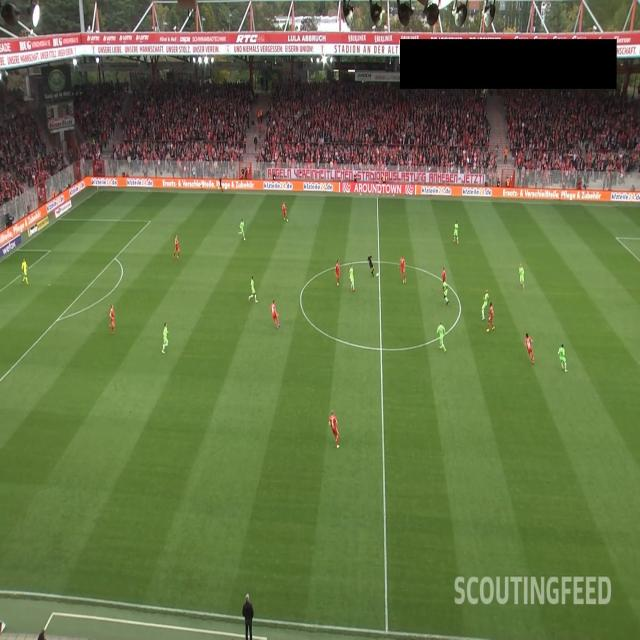ball: (376, 272, 379, 276)
